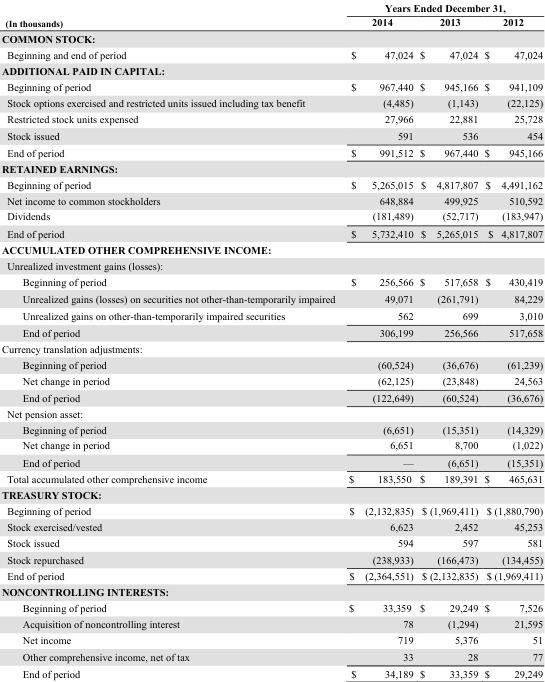table: (0, 1, 542, 678)
table column: (0, 1, 341, 678), (341, 1, 415, 678), (415, 1, 480, 678), (480, 1, 542, 678)
table column header: (0, 1, 542, 30)
table projected row header: (0, 30, 542, 46), (0, 62, 542, 78), (0, 160, 542, 176), (0, 241, 542, 257), (0, 340, 542, 356), (0, 405, 542, 421), (0, 486, 542, 502), (0, 583, 542, 599), (0, 257, 542, 272)
table row: (0, 289, 542, 307), (0, 126, 542, 143), (0, 143, 542, 160), (0, 207, 542, 224), (0, 224, 542, 241), (0, 272, 542, 289), (0, 307, 542, 324), (0, 372, 542, 389), (0, 436, 542, 453), (0, 453, 542, 470), (0, 550, 542, 567), (0, 647, 542, 664), (0, 14, 542, 30), (0, 30, 542, 46), (0, 46, 542, 62), (0, 62, 542, 78), (0, 78, 542, 94), (0, 94, 542, 110), (0, 110, 542, 126), (0, 160, 542, 176), (0, 176, 542, 192), (0, 241, 542, 257), (0, 324, 542, 340), (0, 340, 542, 356), (0, 356, 542, 372), (0, 389, 542, 405), (0, 405, 542, 421), (0, 470, 542, 486), (0, 486, 542, 502), (0, 502, 542, 518), (0, 518, 542, 534), (0, 534, 542, 550), (0, 567, 542, 583), (0, 583, 542, 599), (0, 599, 542, 615), (0, 615, 542, 631), (0, 631, 542, 647), (0, 192, 542, 207), (0, 257, 542, 272), (0, 421, 542, 436), (0, 664, 542, 678), (0, 1, 542, 14)
table spanning cell: (0, 1, 341, 30), (341, 1, 542, 14)
